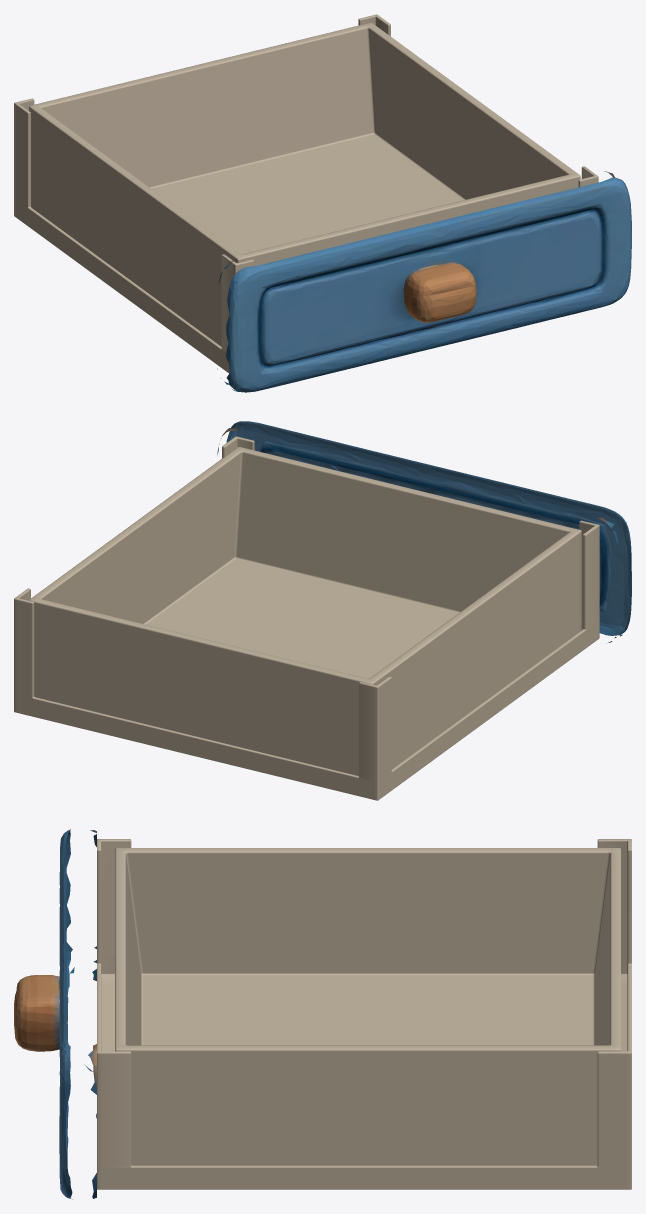
The model's file is drawer_middle.glb.
3 renders of one model, top to bottom at view 1: azimuth 30°, elevation 25°; view 2: azimuth 150°, elevation 25°; view 3: azimuth 270°, elevation 25°, orthographic. The views are drawn at different scales.
Parts seen in each view (by area): view 1: prefab_drawer_body_2, source_front_cap_0; view 2: prefab_drawer_body_2, source_front_cap_0; view 3: prefab_drawer_body_2, source_front_cap_0.
Boxes of the visible parts, x1,y1,x2,y2 form: prefab_drawer_body_2: [14, 14, 598, 373]; source_front_cap_0: [217, 171, 631, 392]; prefab_drawer_body_2: [14, 436, 599, 800]; source_front_cap_0: [217, 421, 631, 643]; prefab_drawer_body_2: [97, 839, 631, 1189]; source_front_cap_0: [14, 829, 96, 1199].
Bounding box in the file's own units: 0.3559 × 0.1062 × 0.391.
Materials: 2 (1 with a texture image).
